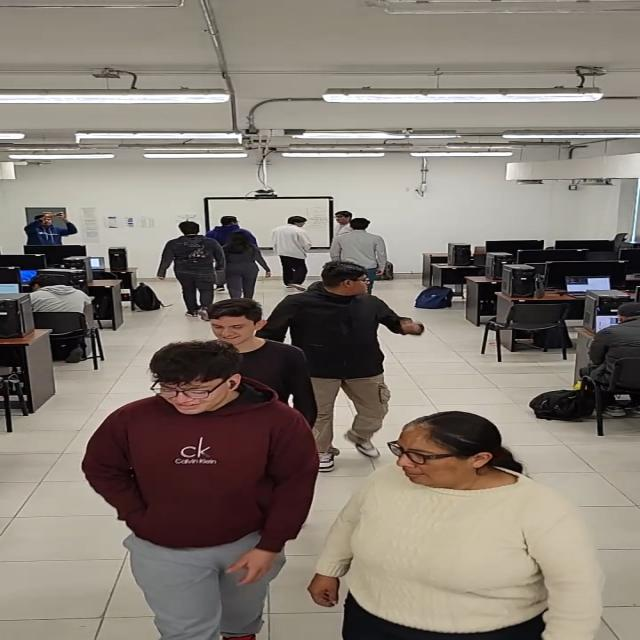Persona: (81, 339, 320, 640), (308, 410, 608, 640), (255, 261, 427, 472), (202, 299, 318, 430), (157, 221, 228, 318), (214, 228, 274, 301), (328, 217, 384, 290), (274, 216, 316, 292), (322, 211, 359, 248), (201, 215, 252, 239)
